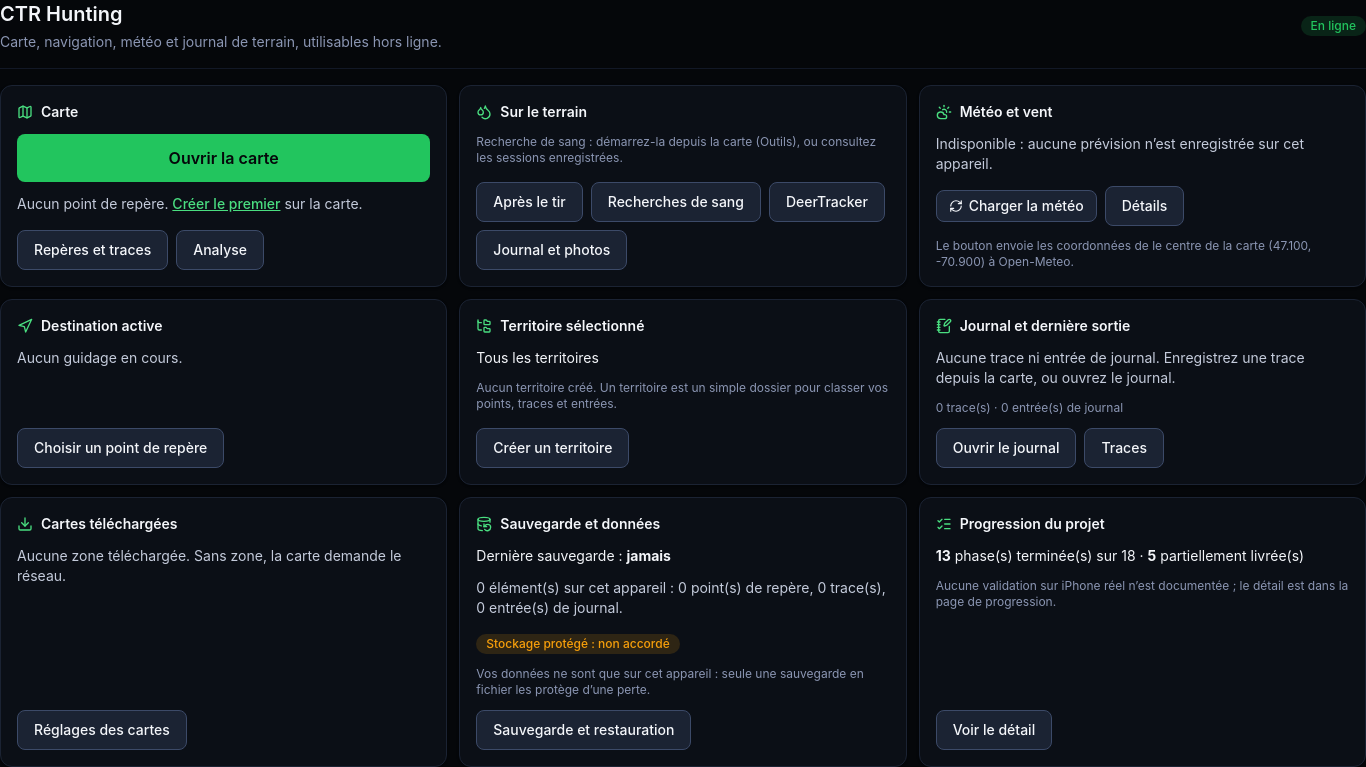
it: DashboardPage — weather and wind › loads one real forecast on request for the map centre and labels it « Actuel » with its hour
Check: the text "le centre de la carte" is shown, box [936,238,1311,269]
Click the button "Charger la météo". click: x=1016, y=206
box: [936,190,1097,222]
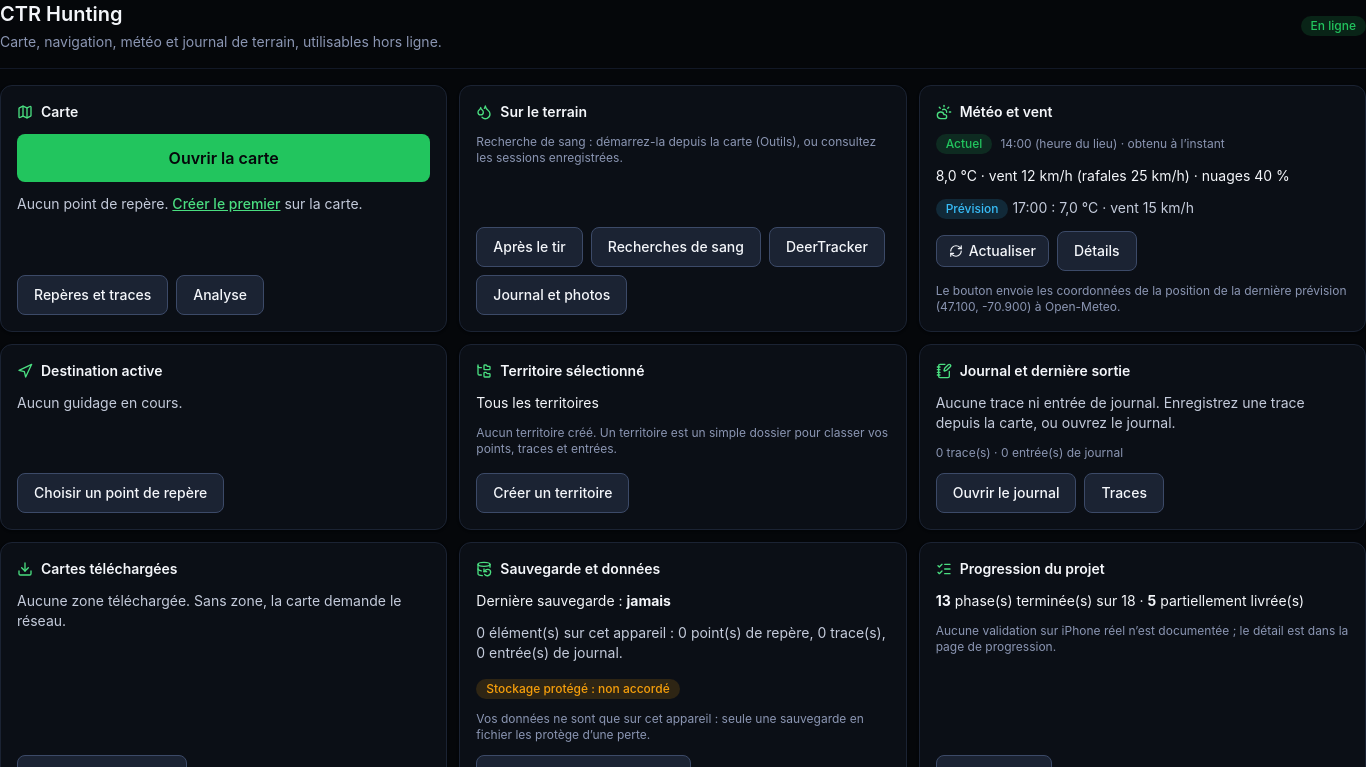
Check: the text "Actuel" is shown, box [936,134,992,154]
Check: the text "14:00 (heure du lieu) · obtenu à l’instant" is shown, box [1000,136,1225,152]
Check: the button "Actualiser" is shown, box [936,235,1049,267]
